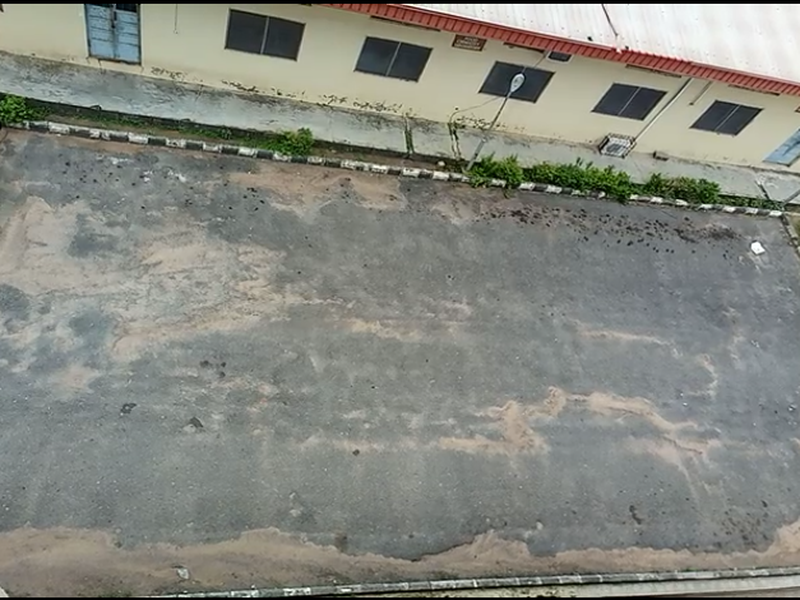five: (706, 188, 800, 363)
four: (532, 166, 644, 361)
one: (3, 96, 122, 337)
three: (359, 147, 478, 349)
two: (177, 120, 315, 337)
